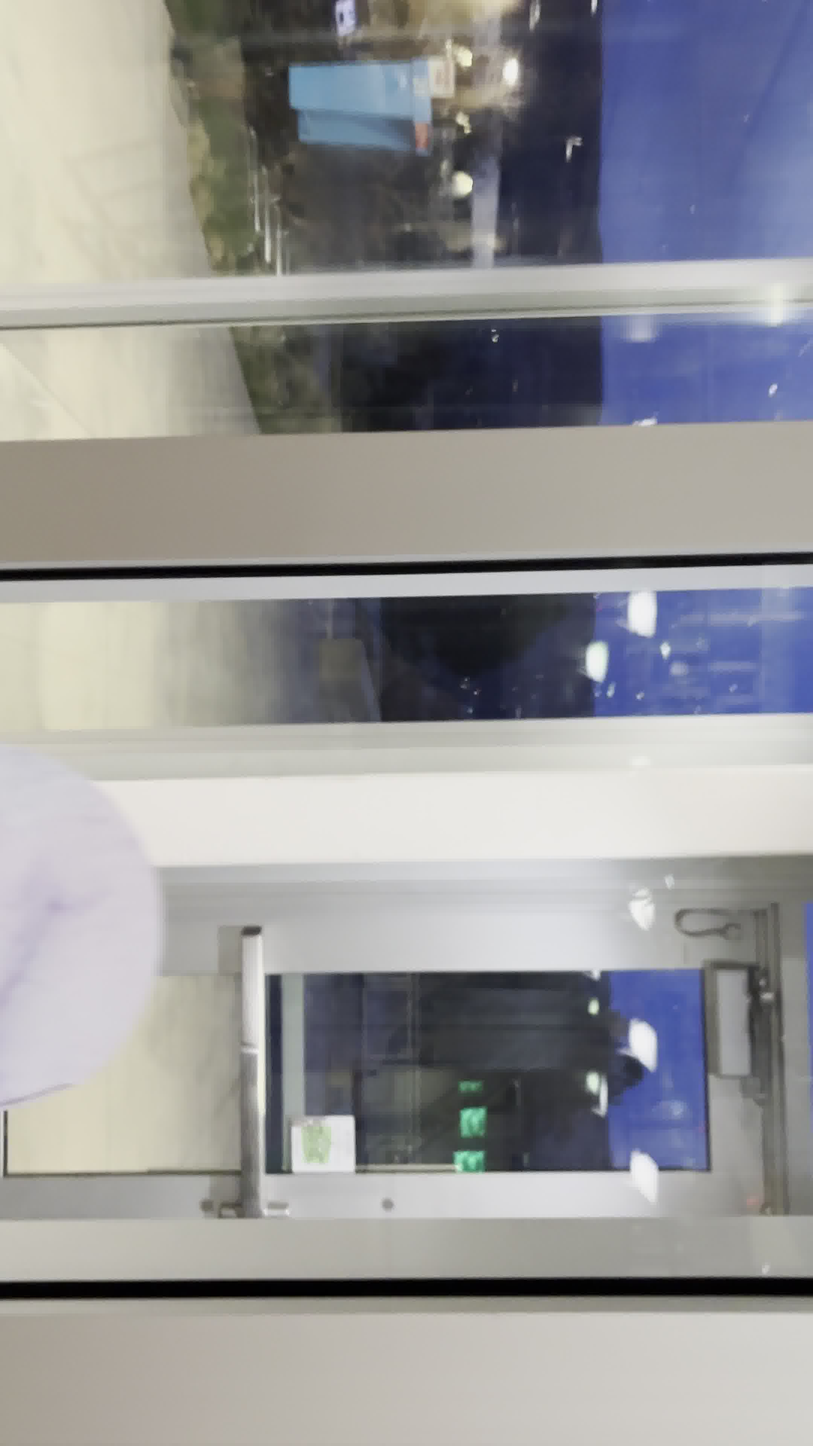Target: (0, 753, 161, 1101)
